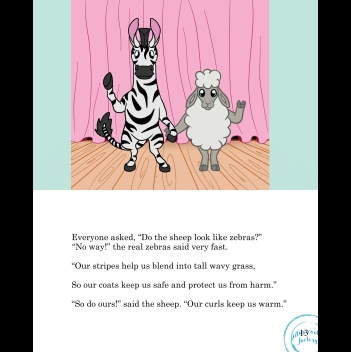latin: (68, 294, 286, 309), (69, 276, 280, 289), (68, 229, 263, 241), (68, 258, 258, 270), (69, 241, 228, 252)
